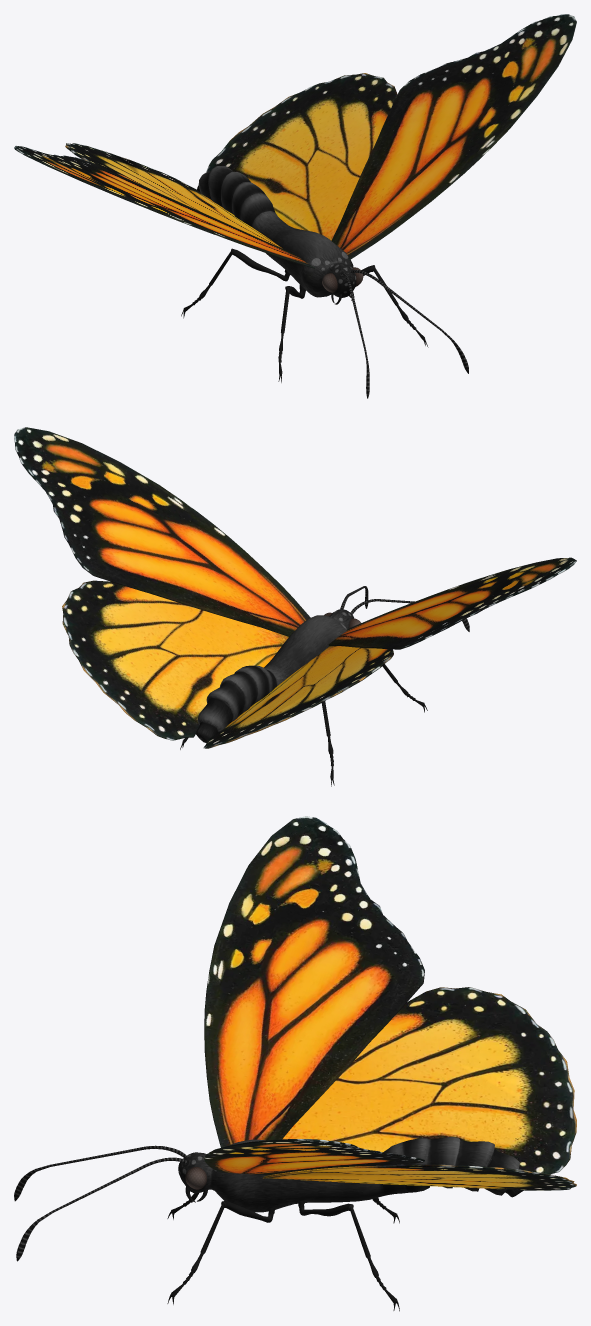
The model's file is monarch-butterfly.glb.
The picture shows the model from 3 angles, top to bottom: view 1: azimuth 30°, elevation 25°; view 2: azimuth 150°, elevation 25°; view 3: azimuth 270°, elevation 25°; orthographic projection. The views are drawn at different scales.
Parts seen in each view (by area): view 1: Object_5; view 2: Object_5; view 3: Object_5.
Boxes of the visible parts, box(x1,y1,x2,y2) form: Object_5: box(14, 14, 576, 398); Object_5: box(14, 427, 576, 786); Object_5: box(14, 816, 576, 1311).
Bounding box in the file's own units: 0.1207 × 0.0507 × 0.089.
Materials: 1 (1 with a texture image).
